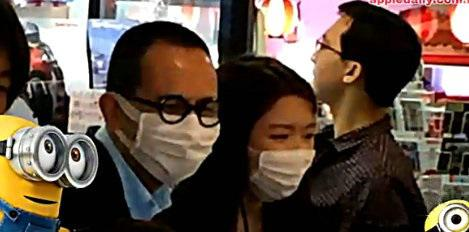NONE: (310, 24, 364, 102)
OK: (136, 90, 228, 182), (239, 119, 318, 198)
